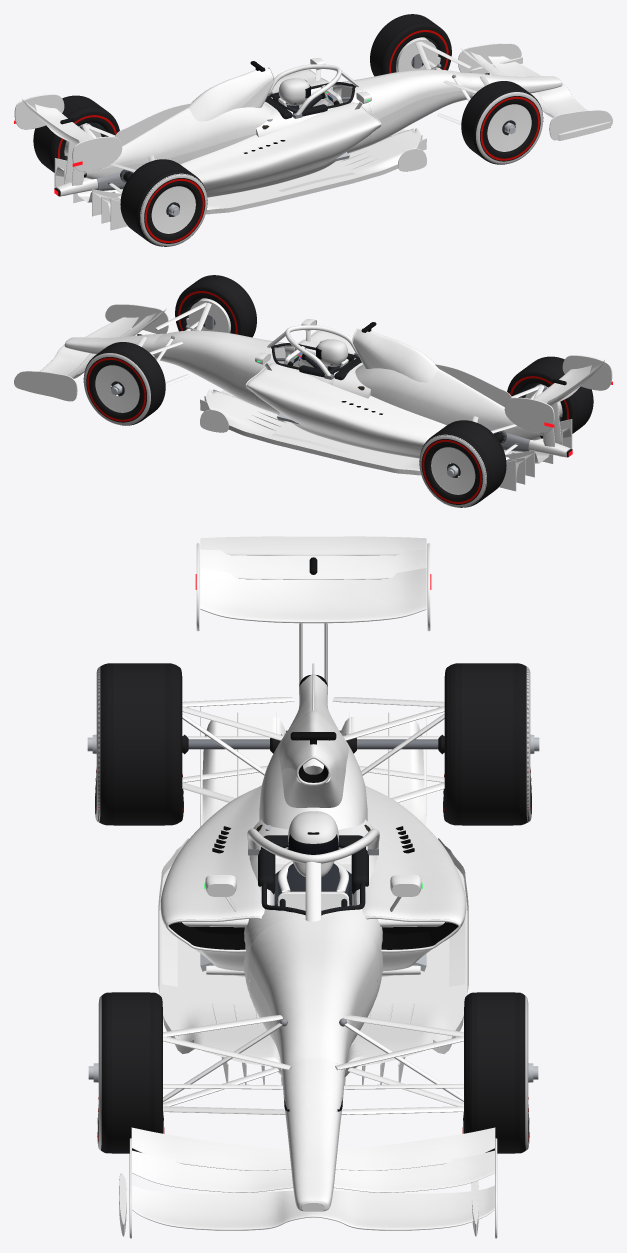
3 renders of one model, top to bottom at view 1: azimuth 30°, elevation 25°; view 2: azimuth 150°, elevation 25°; view 3: azimuth 270°, elevation 25°, orthographic. The views are drawn at different scales.
Visible parts, largest first — view 1: sidepod-L, survival-cell, engine-cover, floor, tyre-RL, front-wing, tyre-FL, rear-wing, tyre-FR, roll-structure, tyre-RR, diffuser (+15 smaller); view 2: sidepod-R, survival-cell, engine-cover, floor, tyre-RR, front-wing, tyre-FR, rear-wing, tyre-FL, roll-structure, tyre-RL, diffuser (+15 smaller); view 3: survival-cell, floor, tyre-RL, tyre-RR, front-wing, sidepod-L, sidepod-R, rear-wing, tyre-FL, tyre-FR, diffuser, fwFlap1 (+16 smaller).
Part boxes in pixels (bbox=[...]): sidepod-L: bbox=[180, 102, 381, 197]; survival-cell: bbox=[256, 69, 474, 153]; engine-cover: bbox=[84, 103, 271, 179]; floor: bbox=[205, 128, 426, 214]; tyre-RL: bbox=[120, 159, 207, 246]; front-wing: bbox=[458, 43, 612, 140]; tyre-FL: bbox=[461, 81, 543, 164]; rear-wing: bbox=[14, 94, 122, 171]; tyre-FR: bbox=[370, 14, 451, 76]; roll-structure: bbox=[188, 67, 274, 121]; tyre-RR: bbox=[33, 95, 119, 172]; diffuser: bbox=[54, 158, 127, 230]; sidepod-R: bbox=[245, 363, 446, 458]; survival-cell: bbox=[152, 330, 370, 414]; engine-cover: bbox=[355, 364, 542, 440]; floor: bbox=[200, 389, 421, 475]; tyre-RR: bbox=[419, 420, 506, 507]; front-wing: bbox=[14, 304, 168, 401]; tyre-FR: bbox=[83, 342, 165, 425]; rear-wing: bbox=[504, 355, 612, 432]; tyre-FL: bbox=[175, 275, 256, 337]; roll-structure: bbox=[352, 328, 438, 382]; tyre-RL: bbox=[507, 356, 593, 433]; diffuser: bbox=[499, 419, 572, 491]; survival-cell: bbox=[243, 819, 383, 1079]; floor: bbox=[158, 838, 468, 1085]; tyre-RL: bbox=[95, 663, 183, 825]; tyre-RR: bbox=[443, 663, 531, 825]; front-wing: bbox=[119, 1138, 497, 1238]; sidepod-L: bbox=[160, 785, 274, 976]; sidepod-R: bbox=[352, 785, 466, 976]; rear-wing: bbox=[195, 543, 431, 631]; tyre-FL: bbox=[97, 992, 164, 1153]; tyre-FR: bbox=[462, 992, 529, 1153]; diffuser: bbox=[200, 706, 426, 826]; fwFlap1: bbox=[131, 1127, 495, 1170].
Size of the model in its own units: 5.3 by 1.05 by 1.98.
